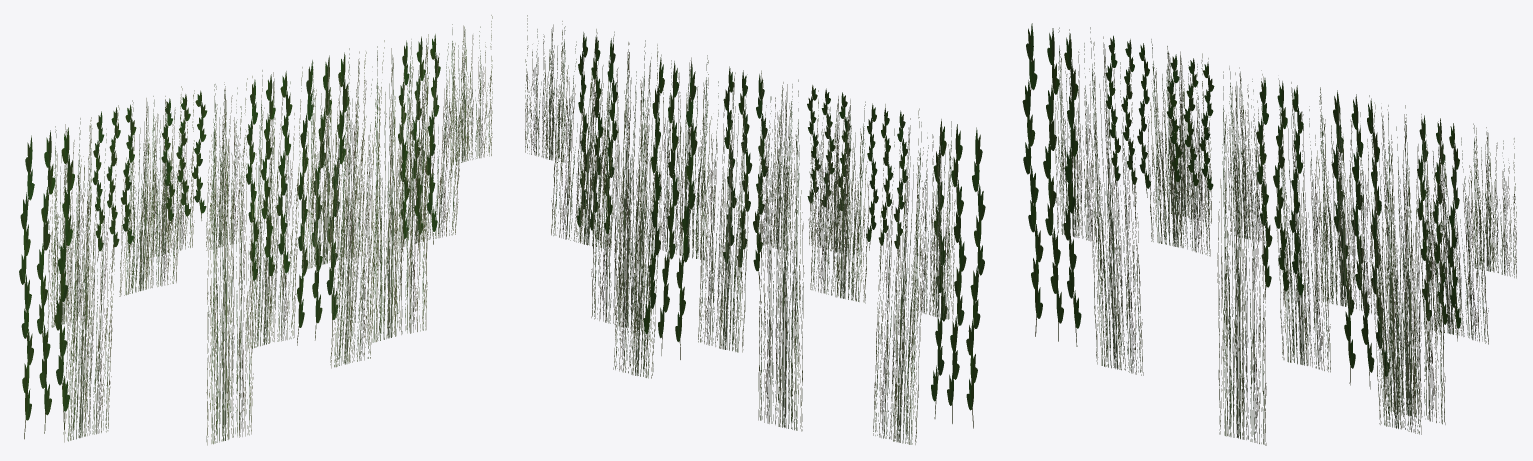
The model's file is ENV_PC_VineCurtain_A.fbx.
The picture shows the model from 3 angles, left to right: view 1: azimuth 30°, elevation 25°; view 2: azimuth 150°, elevation 25°; view 3: azimuth 330°, elevation 25°; orthographic projection. The views are drawn at different scales.
Parts seen in each view (by area): view 1: ENV_PC_VineCurtain_A_LOD0; view 2: ENV_PC_VineCurtain_A_LOD0; view 3: ENV_PC_VineCurtain_A_LOD0.
Part boxes in pixels (bbox=[...]): ENV_PC_VineCurtain_A_LOD0: bbox=[19, 15, 492, 445]; ENV_PC_VineCurtain_A_LOD0: bbox=[525, 15, 985, 444]; ENV_PC_VineCurtain_A_LOD0: bbox=[1022, 23, 1516, 445].
Size of what is drawn, in the model's own units: 6.21 by 4.5 by 0.5436.
